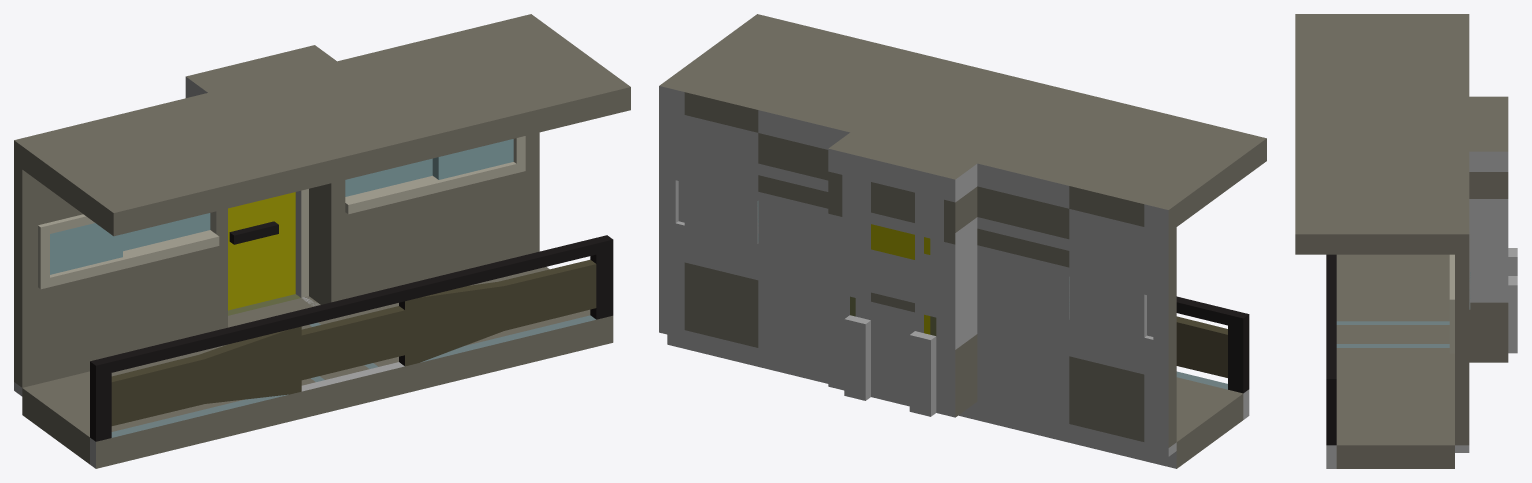
The model's file is Hallway.fbx.
3 views of the same model, side by side, from view 1: azimuth 30°, elevation 25°; view 2: azimuth 150°, elevation 25°; view 3: azimuth 270°, elevation 25° (orthographic). The views are drawn at different scales.
Parts seen in each view (by area): view 1: pCube1; view 2: pCube1; view 3: pCube1.
Part boxes in pixels (<box>): pCube1: <box>14,14,630,468</box>; pCube1: <box>659,14,1266,468</box>; pCube1: <box>1295,14,1517,468</box>.
Size of the model in its own units: 8.87 by 4.4 by 3.79.
